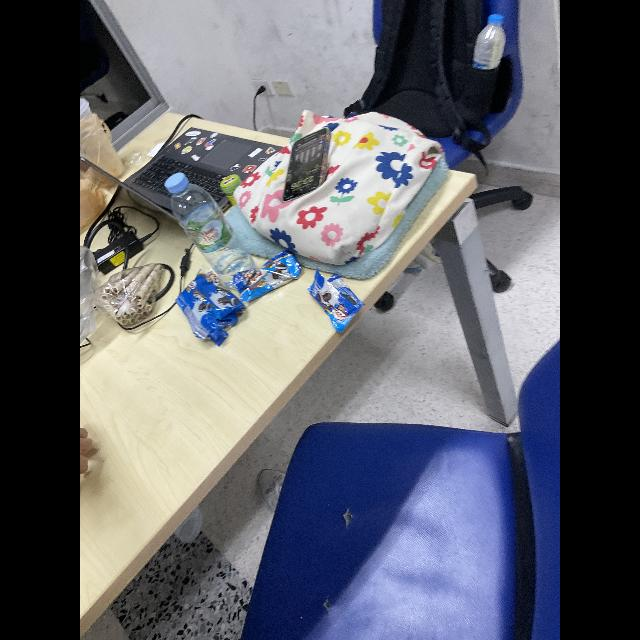plastic_bag: (80, 91, 124, 189), (80, 245, 110, 348), (80, 170, 110, 238)
plastic_bottle: (163, 172, 257, 282), (471, 14, 507, 72)
plastic_bottle_cap: (165, 172, 188, 194), (488, 13, 506, 27)
snack_bag: (176, 270, 248, 348), (96, 263, 162, 327), (305, 268, 365, 336), (233, 247, 301, 306)
